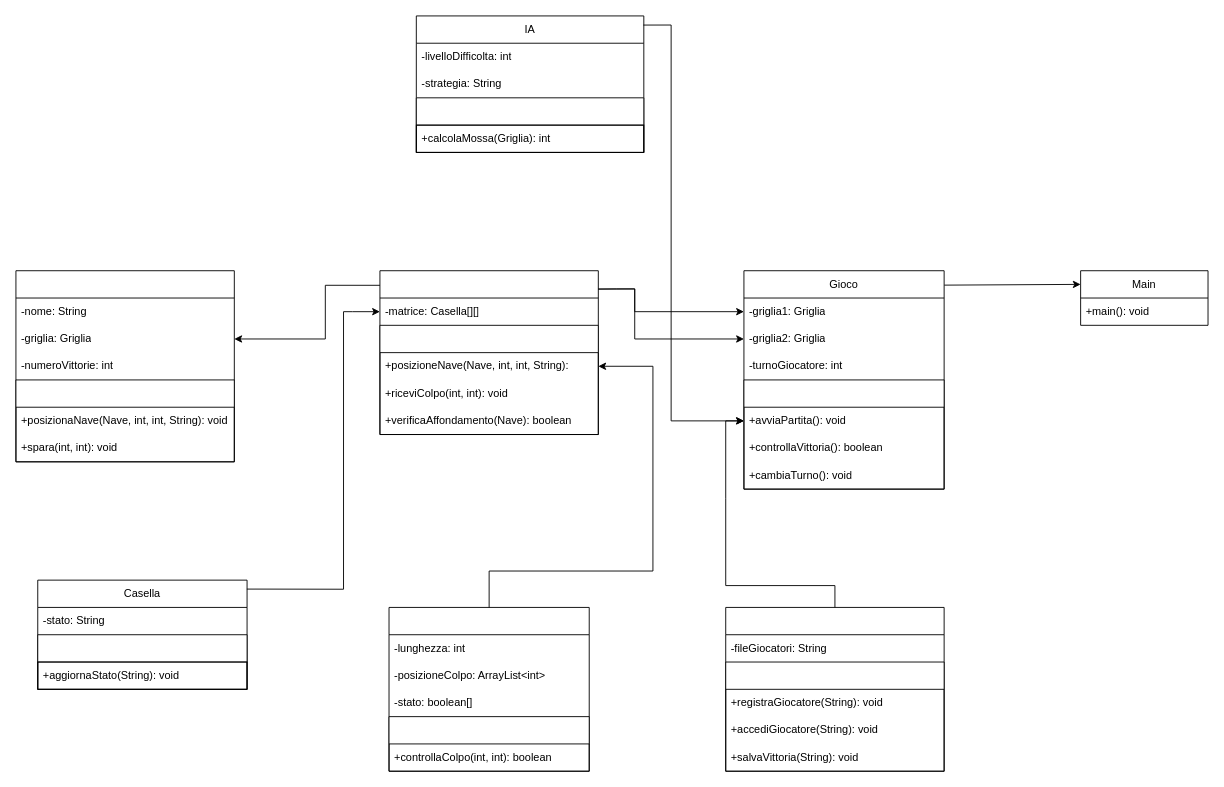
Some shapes in this 1224 by 787 pixel diagram are drawn without their labels. The box of each missing label's shape, as (x1, y1, x2, y2) in pixels:
GestoreAccesso: (725, 607, 944, 771)
Giocatore: (15, 270, 234, 462)
Griglia: (379, 270, 598, 435)
Nave: (388, 607, 589, 771)
